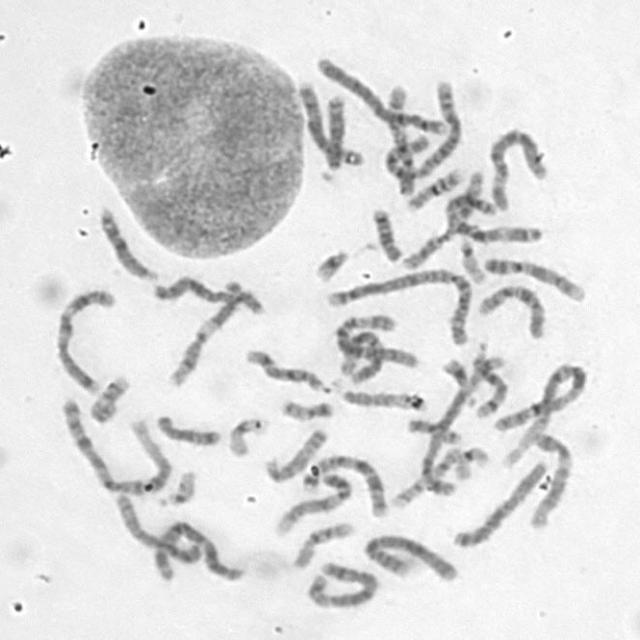A1: (56, 394, 175, 496), (496, 357, 590, 469)
A2: (324, 266, 474, 350), (377, 76, 463, 185)
A3: (146, 516, 246, 587), (442, 181, 546, 245)
B4: (313, 52, 449, 136), (360, 529, 460, 584)
B5: (413, 350, 509, 500), (302, 558, 381, 609)
C10: (474, 279, 548, 340), (381, 80, 419, 197)
C11: (162, 276, 245, 389), (396, 192, 498, 271)
C12: (528, 427, 576, 528), (339, 325, 386, 387)
C6: (486, 126, 551, 213), (333, 310, 397, 380)
C7: (49, 284, 117, 396), (304, 450, 391, 519)
C8: (110, 489, 204, 565), (294, 78, 366, 169)
C9: (270, 468, 353, 536), (479, 253, 587, 303)
D13: (94, 201, 162, 283), (321, 91, 346, 172)
D14: (242, 344, 334, 394), (469, 340, 509, 419)
D15: (259, 424, 330, 483), (335, 384, 427, 413)
E16: (289, 518, 356, 569), (403, 163, 466, 212)
E17: (387, 444, 462, 510), (85, 372, 131, 424)
E18: (152, 410, 222, 447), (368, 204, 404, 262)
F19: (223, 412, 267, 458), (450, 442, 491, 482)
F20: (404, 414, 465, 446), (277, 394, 336, 422)
G21: (439, 354, 478, 407), (311, 244, 352, 284)
G22: (156, 465, 198, 508), (455, 234, 488, 285)
X: (450, 456, 552, 550), (148, 272, 267, 316)
